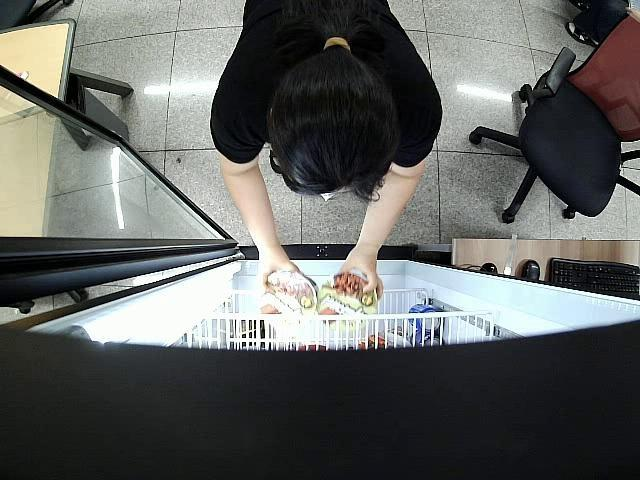03_chapagetti_L: (321, 276, 378, 331), (260, 270, 316, 318)
